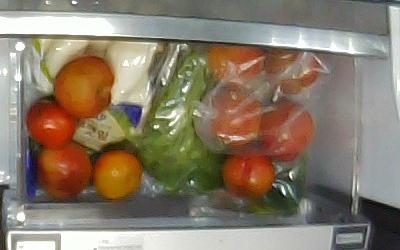prune: (53, 59, 115, 118), (32, 145, 91, 199), (222, 148, 275, 199), (25, 99, 76, 147), (93, 151, 142, 200)
prune_vinyl: (201, 82, 264, 154), (259, 97, 316, 160), (263, 49, 319, 97), (206, 48, 268, 86)
